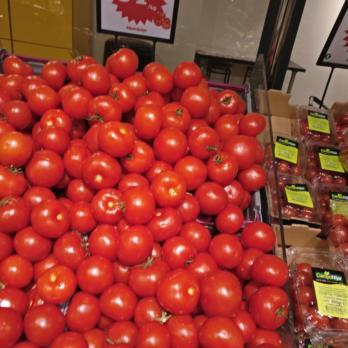Tomato: (5, 46, 273, 348)
